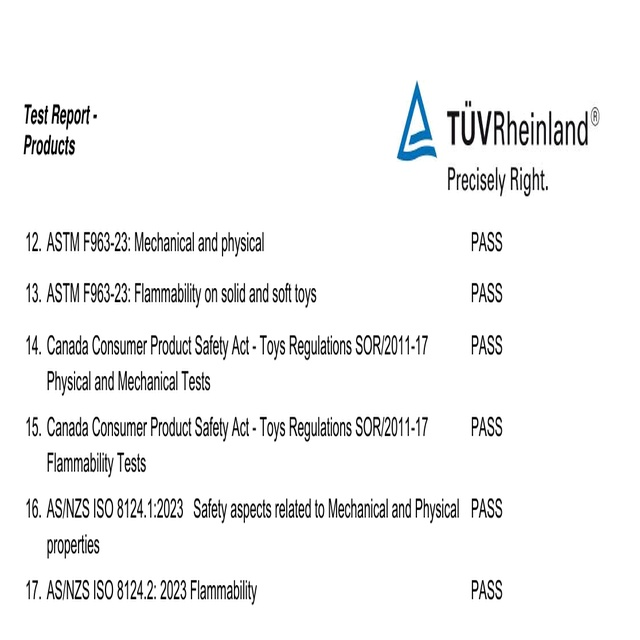tuv_rheinland: (391, 81, 602, 167)
